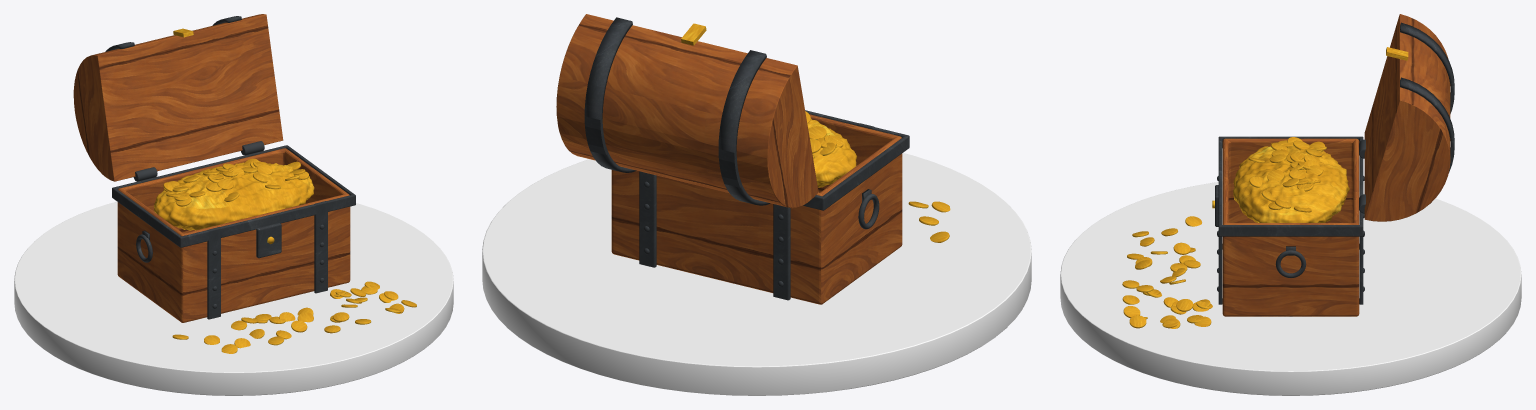
Rendered from treasure_chest.glb.
3 views of the same model, side by side, from view 1: azimuth 30°, elevation 25°; view 2: azimuth 150°, elevation 25°; view 3: azimuth 270°, elevation 25° (orthographic). The views are drawn at different scales.
Visible parts, largest first — view 1: Pedestal, Chest_Lid, Chest_Body, Gold_Mound, Rim_Band, Strap_Body_0, Strap_Body_1, Lock_Plate; view 2: Pedestal, Chest_Lid, Chest_Body, Strap_Lid_0, Strap_Lid_1, Rim_Band, Strap_Body_0, Strap_Body_1, Gold_Mound; view 3: Pedestal, Chest_Body, Chest_Lid, Gold_Mound, Rim_Band, Strap_Lid_1, Strap_Lid_0, Strap_Body_1, Handle_1.
Part boxes in pixels (x1,y1,x2,y2): Pedestal: (14,201,453,395); Chest_Lid: (73,14,283,181); Chest_Body: (117,148,350,322); Gold_Mound: (154,162,314,230); Rim_Band: (112,145,355,247); Strap_Body_0: (141,178,220,319); Strap_Body_1: (248,152,327,293); Lock_Plate: (256,223,281,258); Pedestal: (482,153,1031,395); Chest_Lid: (556,14,818,208); Chest_Body: (611,114,902,304); Strap_Lid_0: (718,50,770,205); Strap_Lid_1: (584,17,636,172); Rim_Band: (803,110,909,210); Strap_Body_0: (773,123,873,300); Strap_Body_1: (639,171,656,267); Gold_Mound: (807,118,856,187); Pedestal: (1060,181,1521,395); Chest_Body: (1222,138,1359,316); Chest_Lid: (1364,14,1450,221); Gold_Mound: (1233,144,1349,222); Rim_Band: (1218,136,1363,236); Strap_Lid_1: (1400,77,1454,172); Strap_Lid_0: (1400,22,1454,113); Strap_Body_1: (1218,205,1363,304); Handle_1: (1275,250,1306,277).
Bounding box in the file's own units: 2.7 × 1.61 × 2.7.
4 materials, 3 textured.
